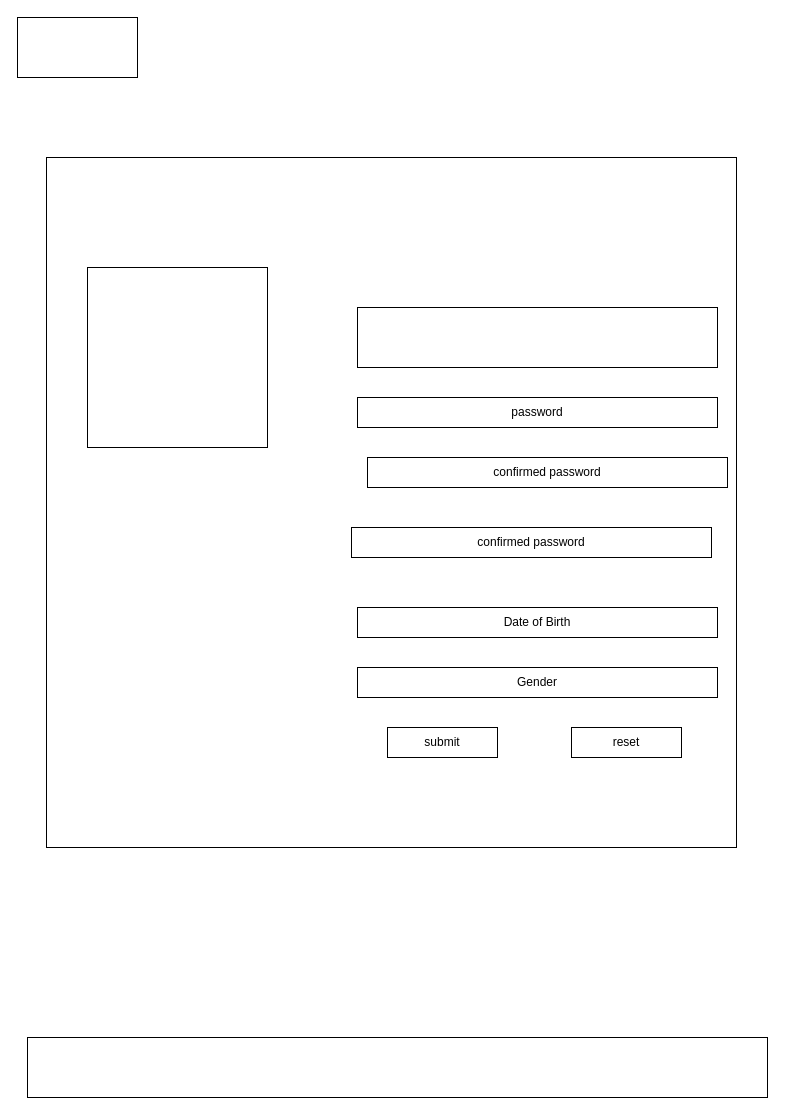
Some shapes in this 785 by 1115 pixel diagram are drawn without their labels. Here are the shapes that lost their labels. From the top down, the centre of each, then its label:
At point (77, 47): "Logo".
At point (177, 357): "User image".
At point (537, 337): "register username".
At point (397, 1067): "Contact Us".
